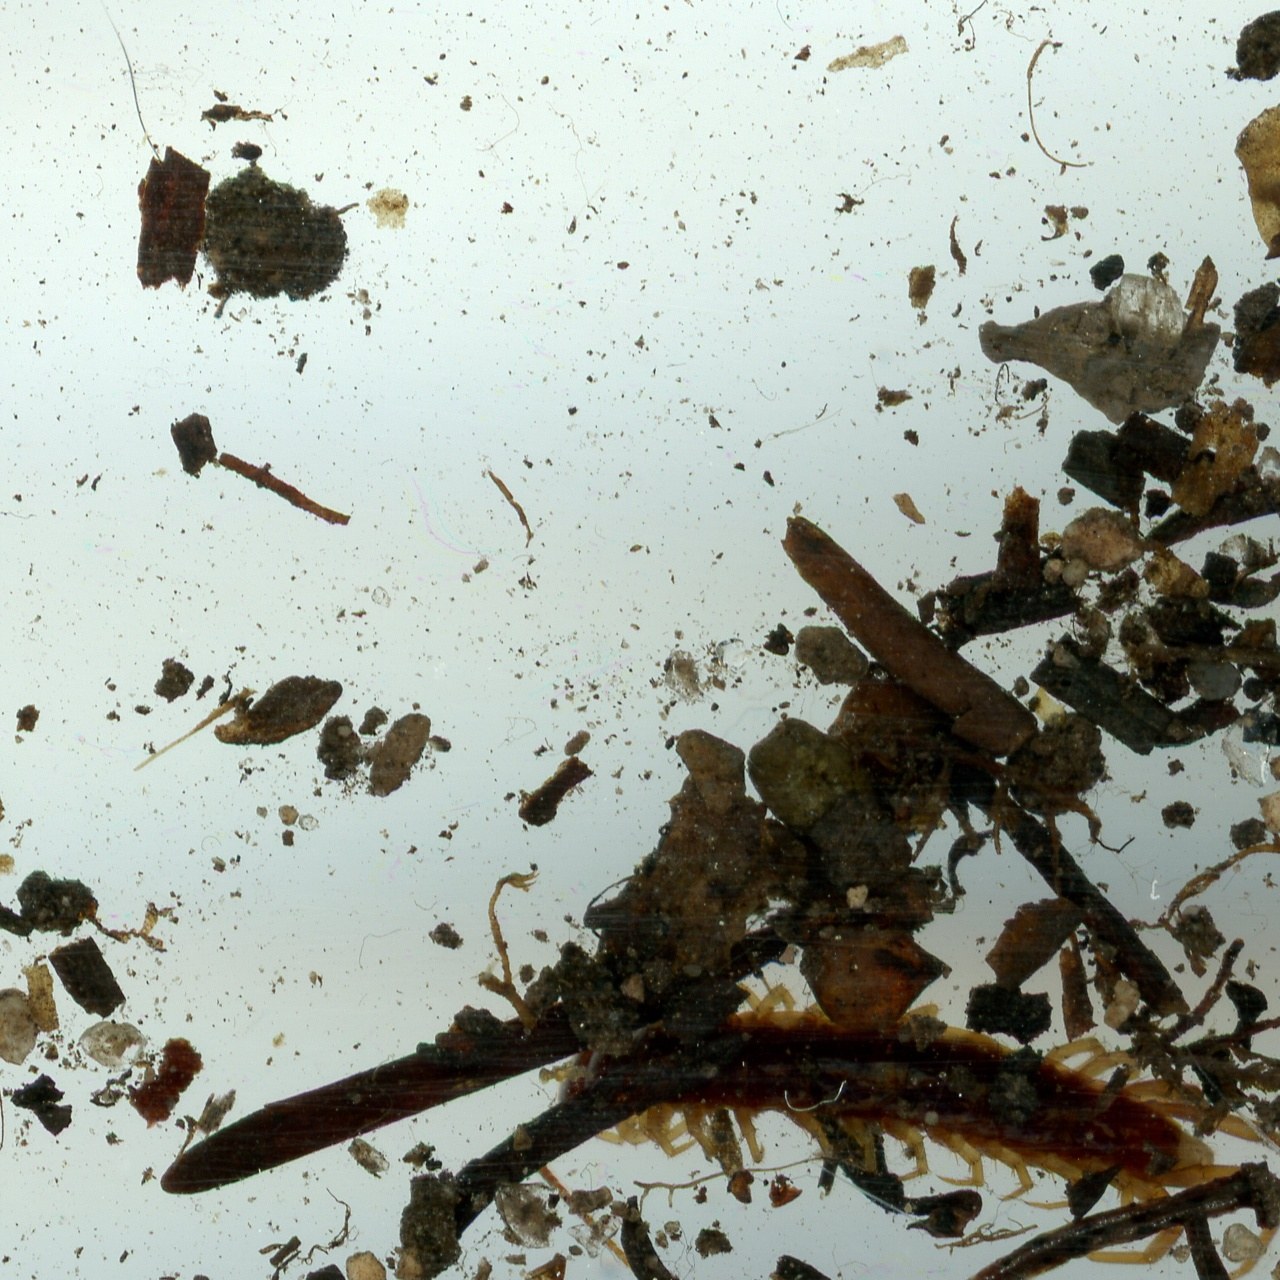arthropod: (559, 986, 1280, 1280)
